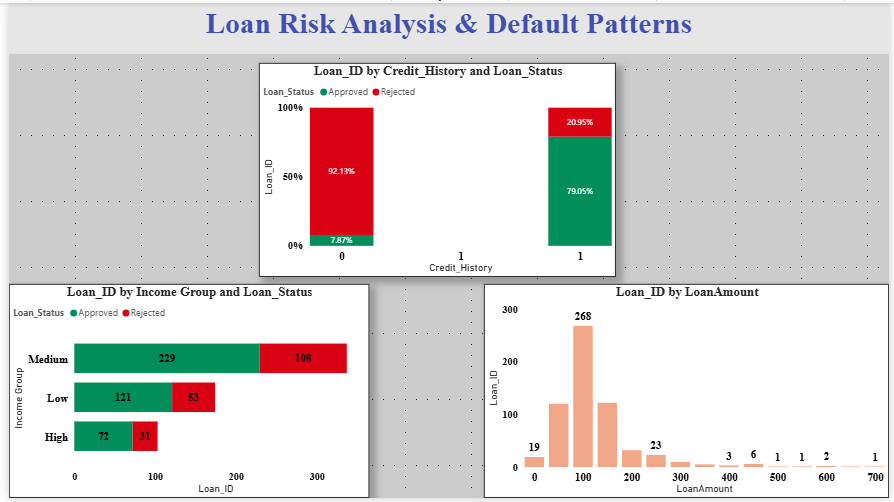

The dashboard page shown, as its layout file describes it:
{"tool":"powerbi","page":{"name":"Risk Analysis","canvas":[1280,720],"ordinal":1},"visuals":[{"type":"hundredPercentStackedColumnChart","title":"Loan_ID by Credit_History and Loan_Status","fields":{"Category":["Loan_cleaned_File.Credit_History"],"Y":["CountNonNull(Loan_cleaned_File.Loan_ID)"],"Series":["Loan_cleaned_File.Loan_Status"]},"box":[363.6,87.3,519.3,311.3],"z":0},{"type":"barChart","title":"Loan_ID by Income Group and Loan_Status","fields":{"Category":["Loan_cleaned_File.Income Group"],"Series":["Loan_cleaned_File.Loan_Status"],"Y":["CountNonNull(Loan_cleaned_File.Loan_ID)"]},"box":[0,408.7,523.6,311.3],"z":1000},{"type":"actionButton","box":[0,0,100,40],"z":2000},{"type":"clusteredColumnChart","fields":{"Y":["CountNonNull(Loan_cleaned_File.Loan_ID)"],"Category":["Loan_cleaned_File.LoanAmount (bins)"]},"box":[690.9,408.7,589.1,311.3],"z":3000},{"type":"textbox","box":[0,0,1280,74.2],"z":4000}]}

Visuals, with their boxes in screenshot pixels (x1, y1, x2, y2), scaled from the page's 1280x720 canvas onto the 894x502 screenshot:
"Loan_ID by Credit_History and Loan_Status" hundredPercentStackedColumnChart: rect(254, 61, 617, 278)
"Loan_ID by Income Group and Loan_Status" barChart: rect(0, 285, 366, 501)
actionButton: rect(0, 0, 70, 28)
clusteredColumnChart - CountNonNull(Loan_cleaned_File.Loan_ID) x Loan_cleaned_File.LoanAmount (bins): rect(483, 285, 893, 501)
textbox: rect(0, 0, 893, 52)
